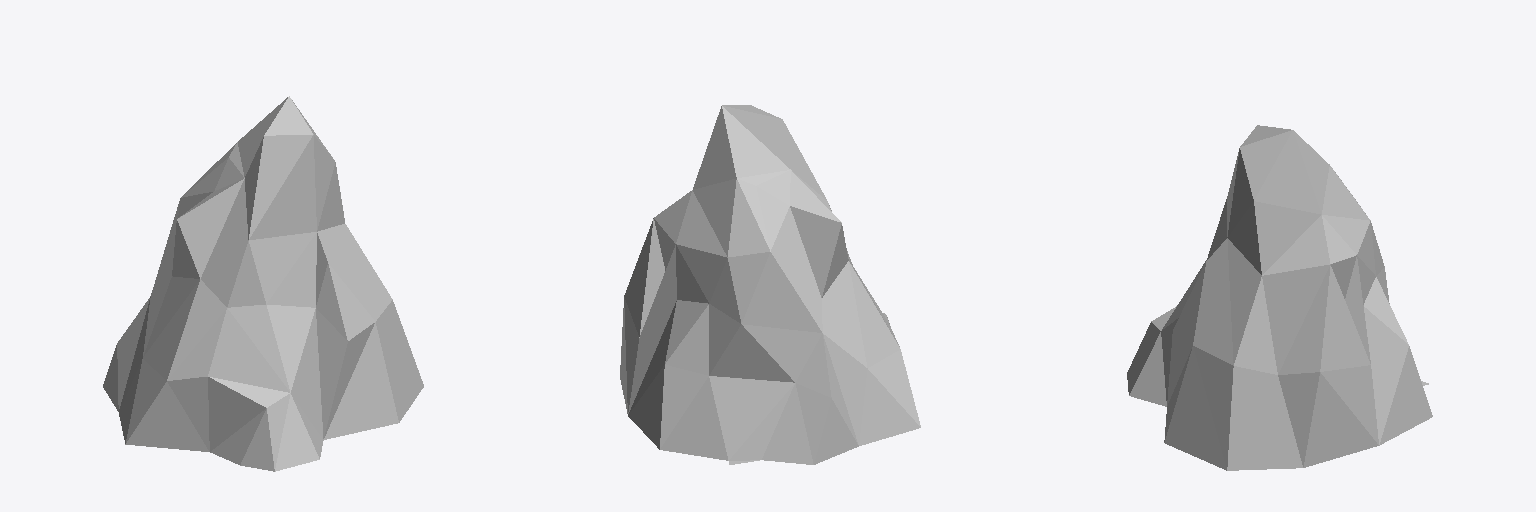
Rendered from rock_002_LOD3.obj.
The picture shows the model from 3 angles: view 1: azimuth 30°, elevation 25°; view 2: azimuth 150°, elevation 25°; view 3: azimuth 270°, elevation 25°; orthographic projection.
Visible parts, largest first — view 1: rock_002_LOD3 rock_002; view 2: rock_002_LOD3 rock_002; view 3: rock_002_LOD3 rock_002.
Boxes of the visible parts, x1=… form: rock_002_LOD3 rock_002: x1=103, y1=96, x2=423, y2=471; rock_002_LOD3 rock_002: x1=620, y1=105, x2=920, y2=464; rock_002_LOD3 rock_002: x1=1127, y1=125, x2=1432, y2=470.
Size of the model in its own units: 1244 by 1220 by 1162.